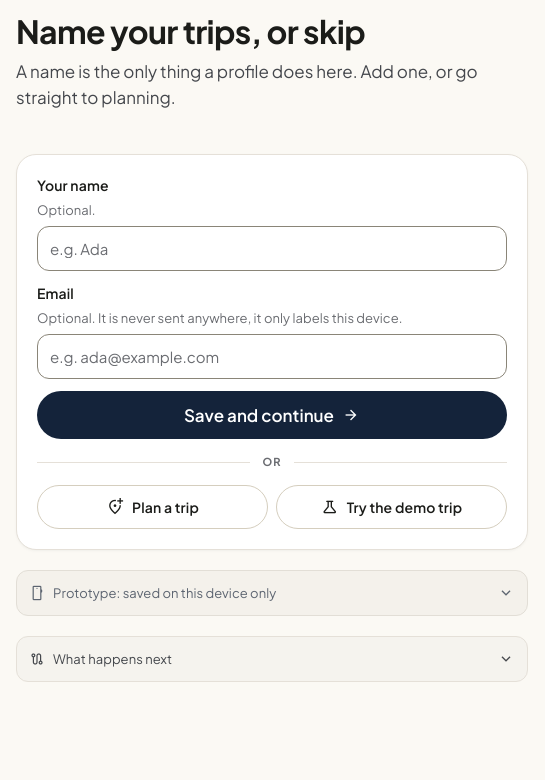
it: WelcomePage › states the honesty once, as a claim that opens for the detail
What coordinates should you click on to do the following:
click the text "Prototype: saved on this device only"
I would click on:
 (165, 592)
Its box is top-left (53, 584), bottom-right (276, 600).
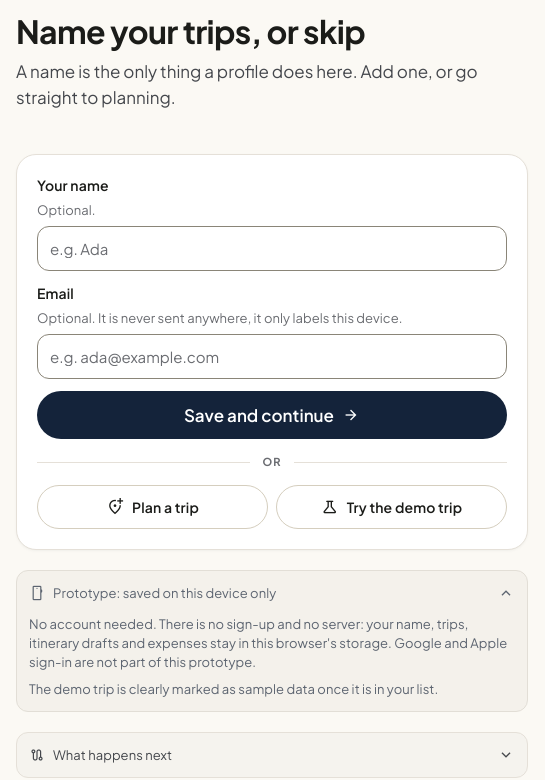
Now the text "There is no sign-up and no server" is shown, box top-left (29, 616), bottom-right (507, 670)
Now the text "The demo trip is clearly marked as sample data" is shown, box top-left (29, 681), bottom-right (438, 697)
